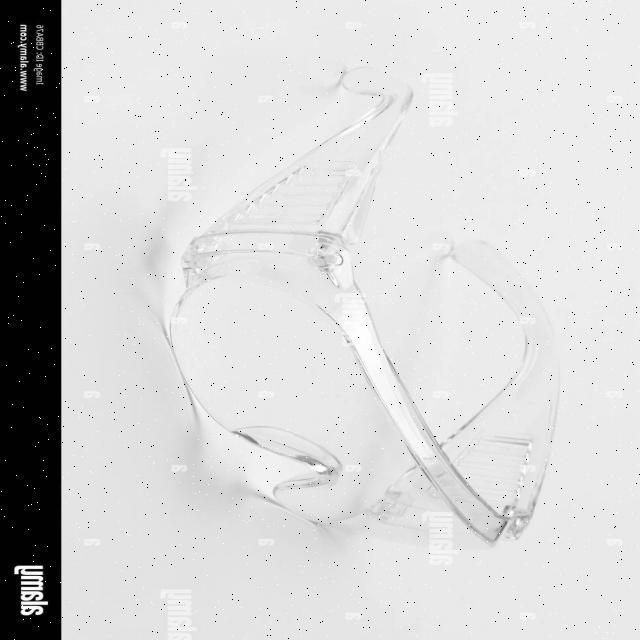Goggles: (150, 60, 569, 561)
